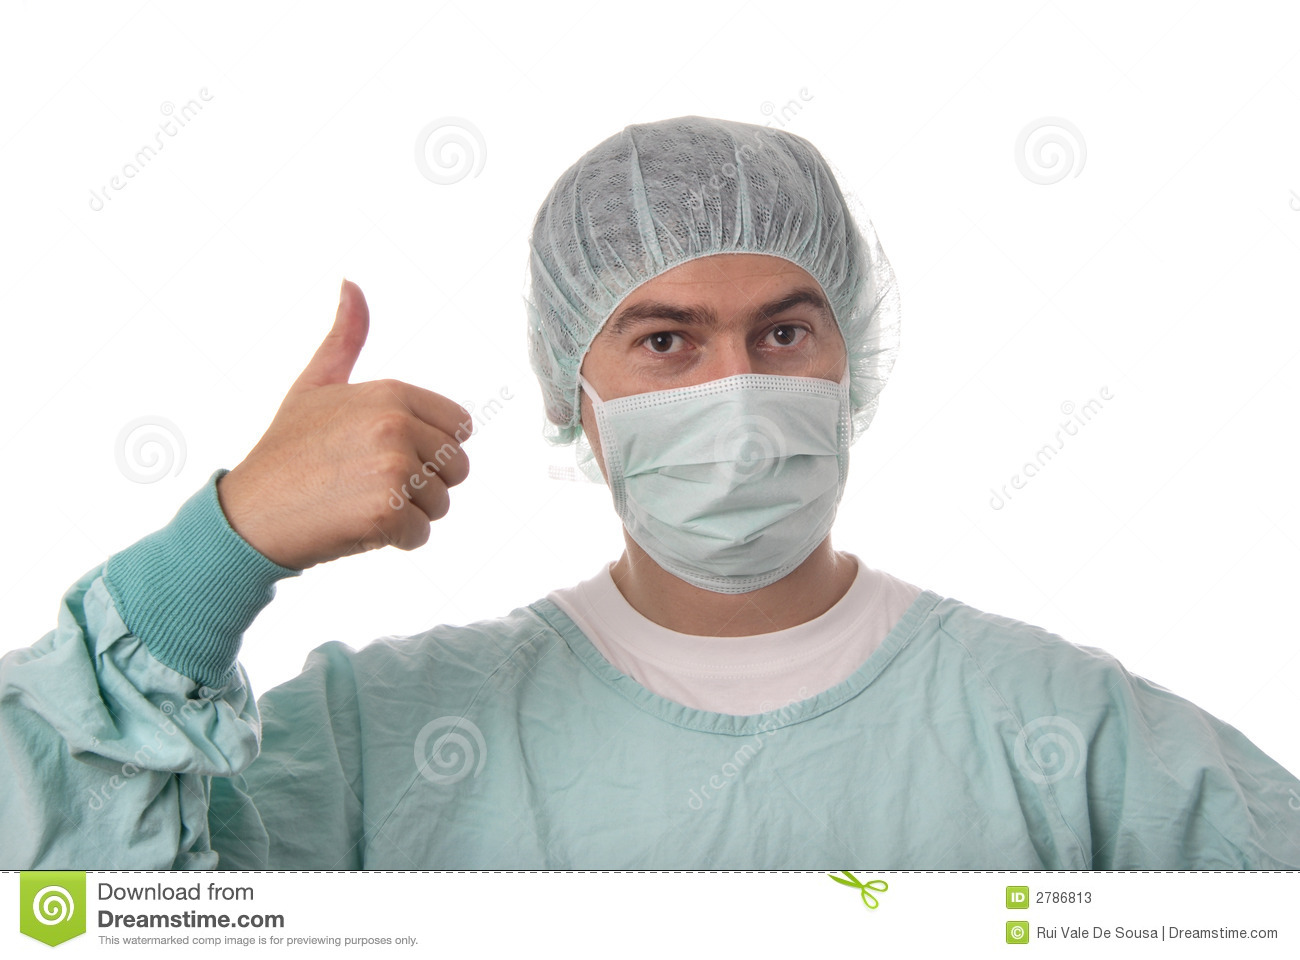mask: (594, 372, 852, 592)
